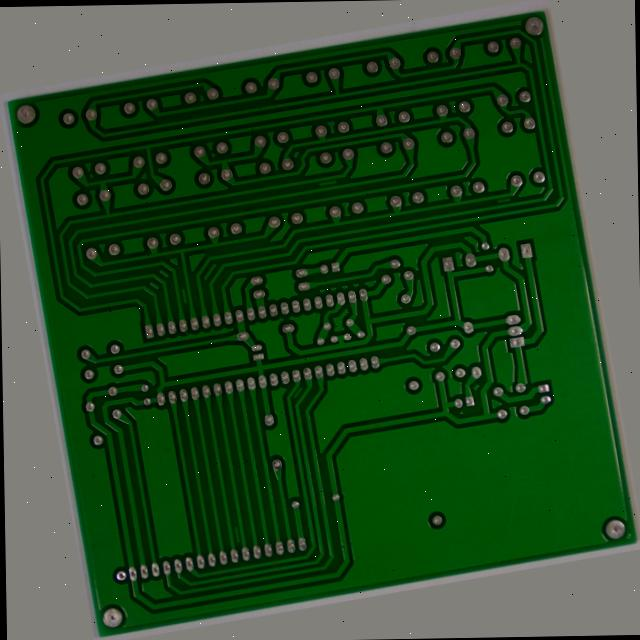spurious_copper: (181, 534, 194, 559), (538, 210, 560, 224), (341, 159, 365, 171), (273, 389, 289, 405), (166, 255, 174, 279)
